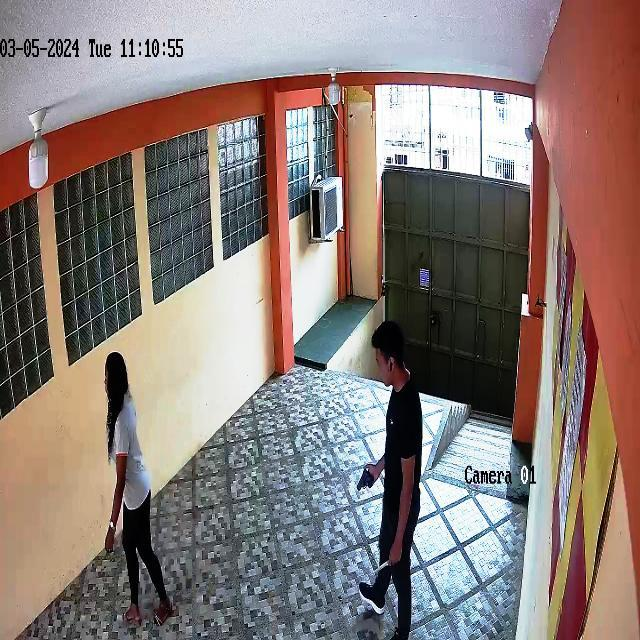Gun: (347, 458, 378, 504)
